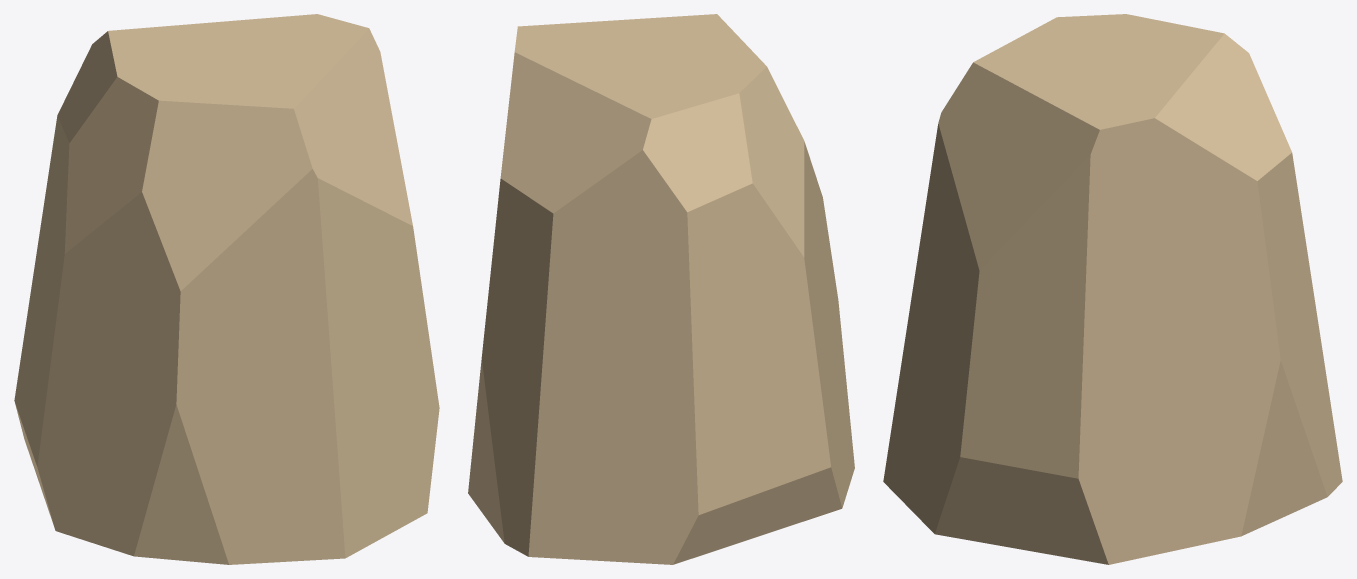
File: roca8.glb
3 renders of one model, left to right at view 1: azimuth 30°, elevation 25°; view 2: azimuth 150°, elevation 25°; view 3: azimuth 270°, elevation 25°, orthographic.
Parts seen in each view (by area): view 1: small_rock_01_Cylinder; view 2: small_rock_01_Cylinder; view 3: small_rock_01_Cylinder.
Part boxes in pixels (box(x1,y1,x2,y2)): small_rock_01_Cylinder: box(14, 14, 439, 564); small_rock_01_Cylinder: box(468, 14, 854, 564); small_rock_01_Cylinder: box(883, 14, 1342, 564).
Size of the model in its own units: 0.7284 by 0.7904 by 0.7904.
